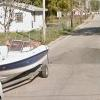Boat: (1, 32, 53, 92)
